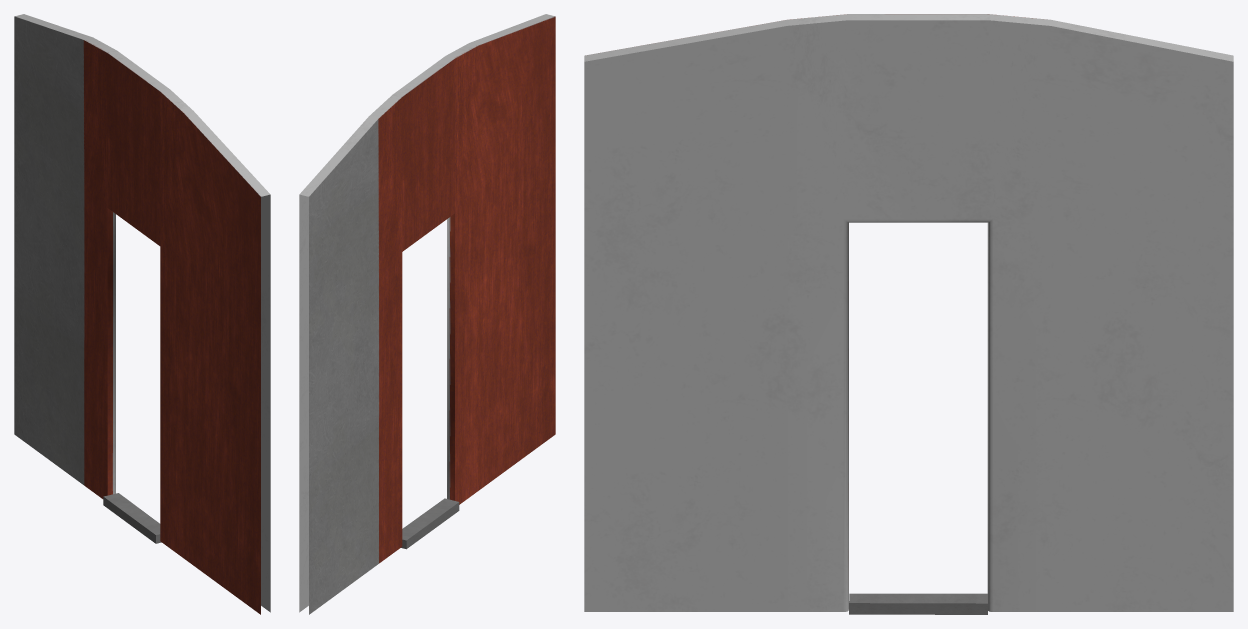
File: SM_Back_Wall.fbx
3 renders of one model, left to right at view 1: azimuth 30°, elevation 25°; view 2: azimuth 150°, elevation 25°; view 3: azimuth 270°, elevation 25°, orthographic. The views are drawn at different scales.
Parts seen in each view (by area): view 1: SM_Back_Wall; view 2: SM_Back_Wall; view 3: SM_Back_Wall.
Boxes of the visible parts, left/top/right/bottom form: SM_Back_Wall: left=14, top=14, right=270, bottom=614; SM_Back_Wall: left=299, top=14, right=555, bottom=614; SM_Back_Wall: left=584, top=14, right=1233, bottom=614.
Bounding box in the file's own units: 12.13 × 337 × 340.
1 material, 1 textured.
